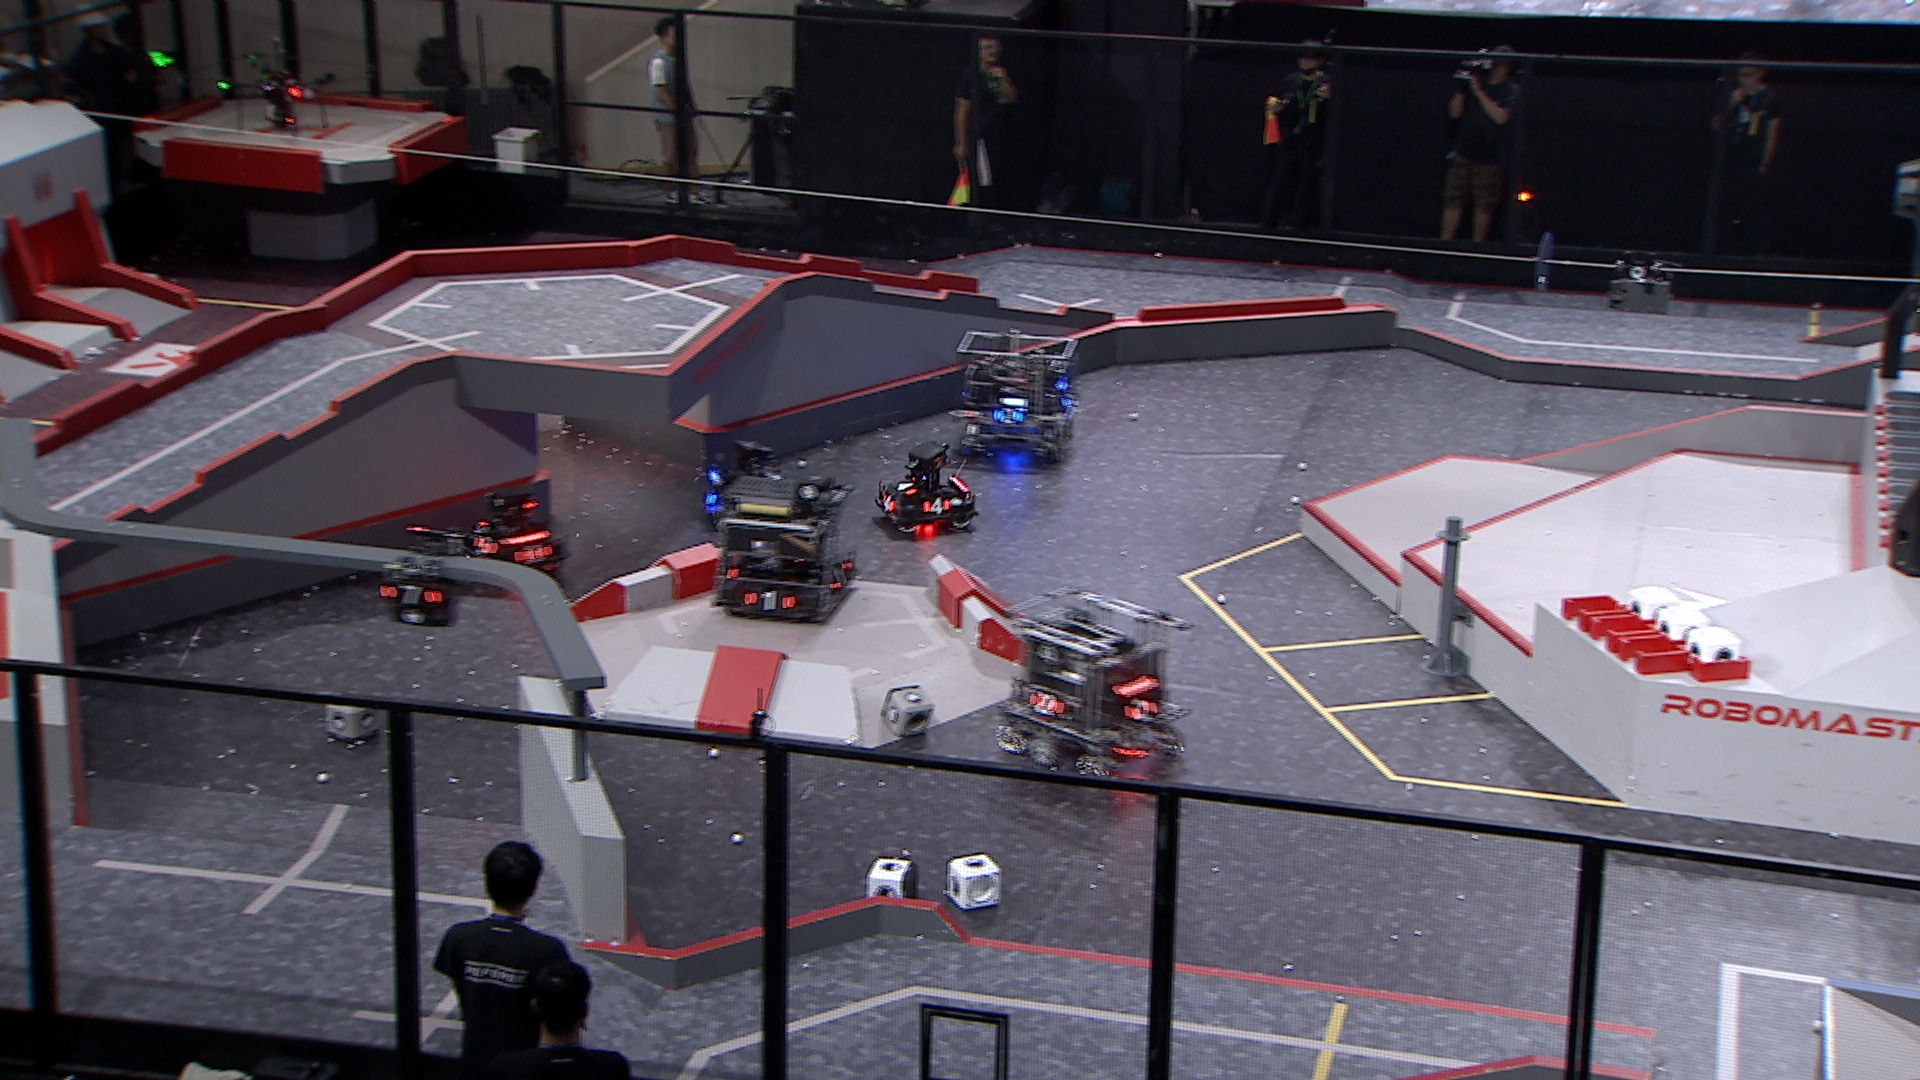armor: (382, 585, 444, 611), (742, 589, 795, 613), (1027, 690, 1064, 713), (513, 543, 553, 564), (1126, 698, 1159, 723), (992, 406, 1025, 427), (468, 535, 498, 556), (920, 498, 949, 514), (829, 566, 847, 589), (893, 479, 916, 496), (880, 493, 897, 513)
car: (993, 584, 1192, 787), (708, 472, 862, 624), (949, 328, 1087, 463), (456, 484, 570, 582), (874, 436, 982, 533), (703, 439, 800, 524)
watcher: (371, 522, 472, 632)
